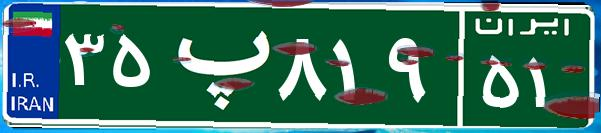1: (330, 28, 385, 110), (525, 38, 570, 115)
3: (57, 26, 110, 107)
5: (475, 38, 525, 113), (110, 28, 158, 105)
8: (273, 28, 330, 110)
9: (385, 28, 445, 110)
پ: (158, 15, 273, 115)
